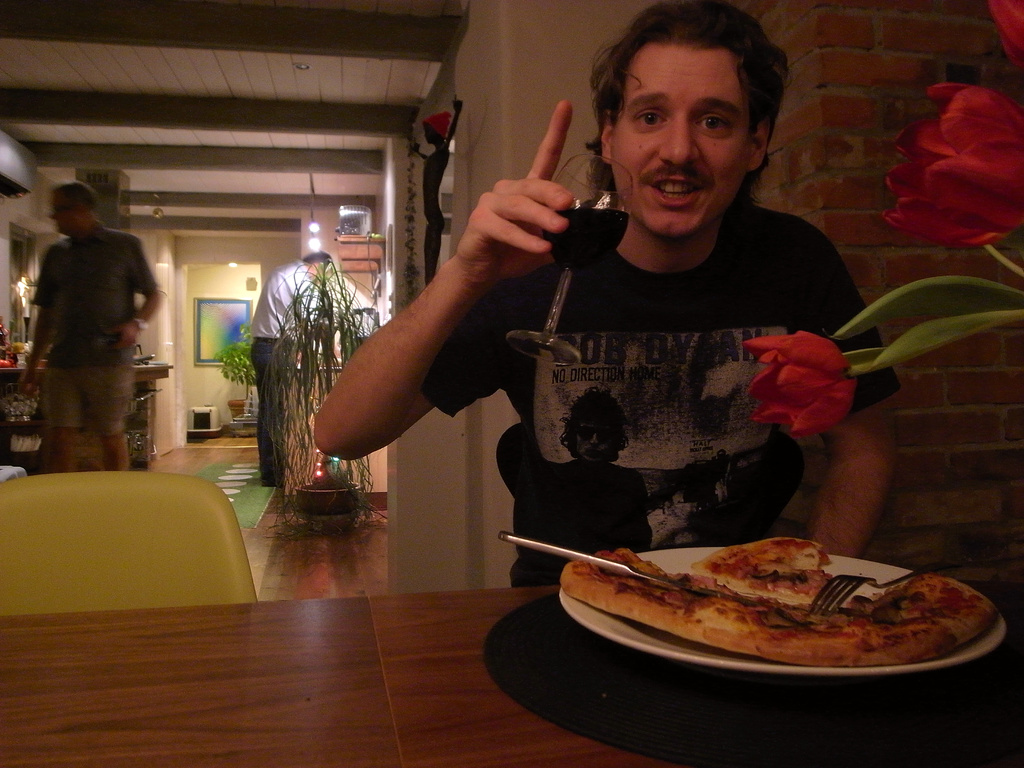Pizza: (568, 532, 977, 683)
